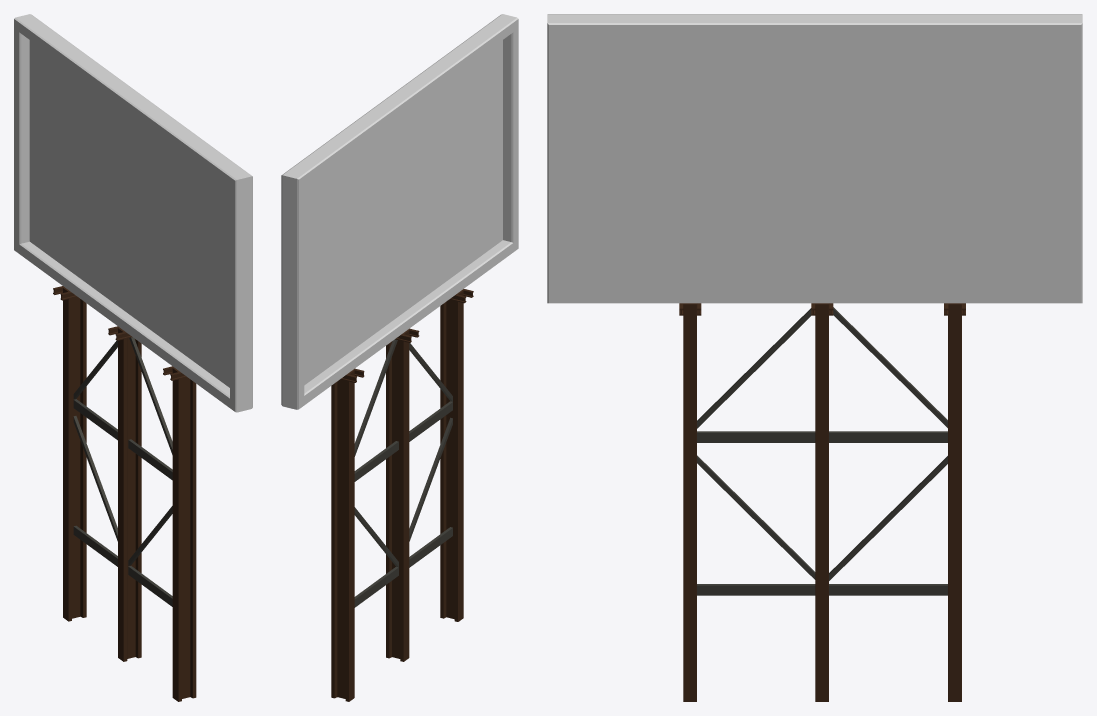
Rendered from Bill Board.FBX.
The picture shows the model from 3 angles, left to right: view 1: azimuth 30°, elevation 25°; view 2: azimuth 150°, elevation 25°; view 3: azimuth 270°, elevation 25°; orthographic projection. The views are drawn at different scales.
Parts seen in each view (by area): view 1: Box001, Box002, Box003; view 2: Box001, Box002, Box003; view 3: Box001, Box002, Box003.
Boxes of the visible parts, bbox=[...] form: Box001: bbox=[14, 14, 252, 412]; Box002: bbox=[53, 286, 196, 701]; Box003: bbox=[73, 337, 172, 606]; Box001: bbox=[281, 14, 518, 409]; Box002: bbox=[331, 289, 473, 701]; Box003: bbox=[354, 339, 452, 607]; Box001: bbox=[547, 14, 1082, 303]; Box002: bbox=[679, 303, 965, 701]; Box003: bbox=[697, 307, 947, 595].
Size of the model in its own units: 7.19 by 113 by 81.03.
